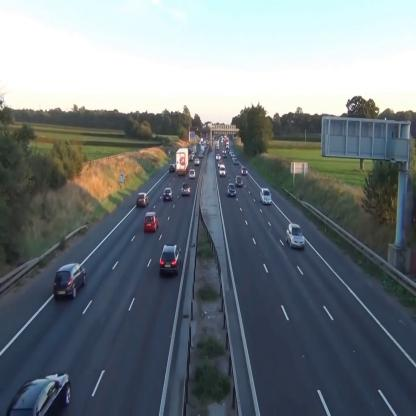car: (7, 373, 71, 416), (53, 262, 86, 299), (160, 244, 182, 275), (286, 224, 305, 248), (144, 211, 159, 233), (136, 192, 149, 207), (260, 188, 272, 204), (163, 186, 173, 202), (182, 182, 192, 197), (227, 184, 236, 196), (188, 169, 196, 178), (235, 176, 242, 186), (220, 165, 225, 175), (169, 164, 175, 172), (242, 166, 247, 174), (194, 158, 199, 165), (216, 153, 221, 160), (189, 155, 194, 161), (234, 158, 238, 164), (199, 152, 202, 156)
lorry: (176, 148, 189, 174)
